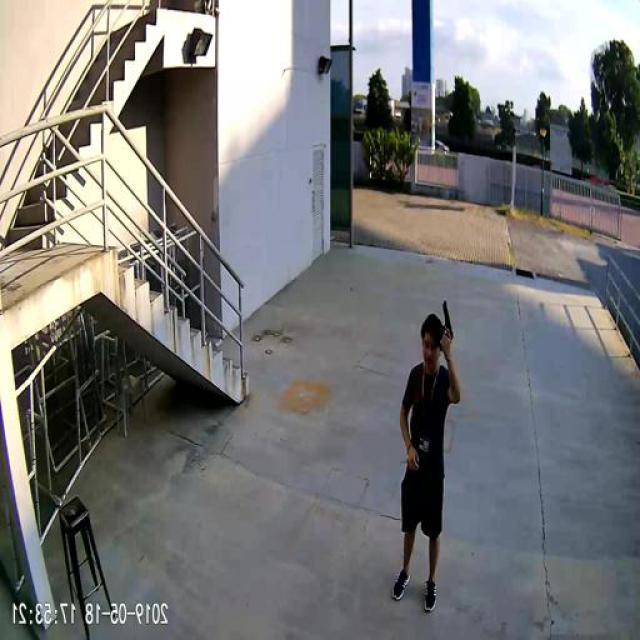Gun: (442, 296, 457, 348)
